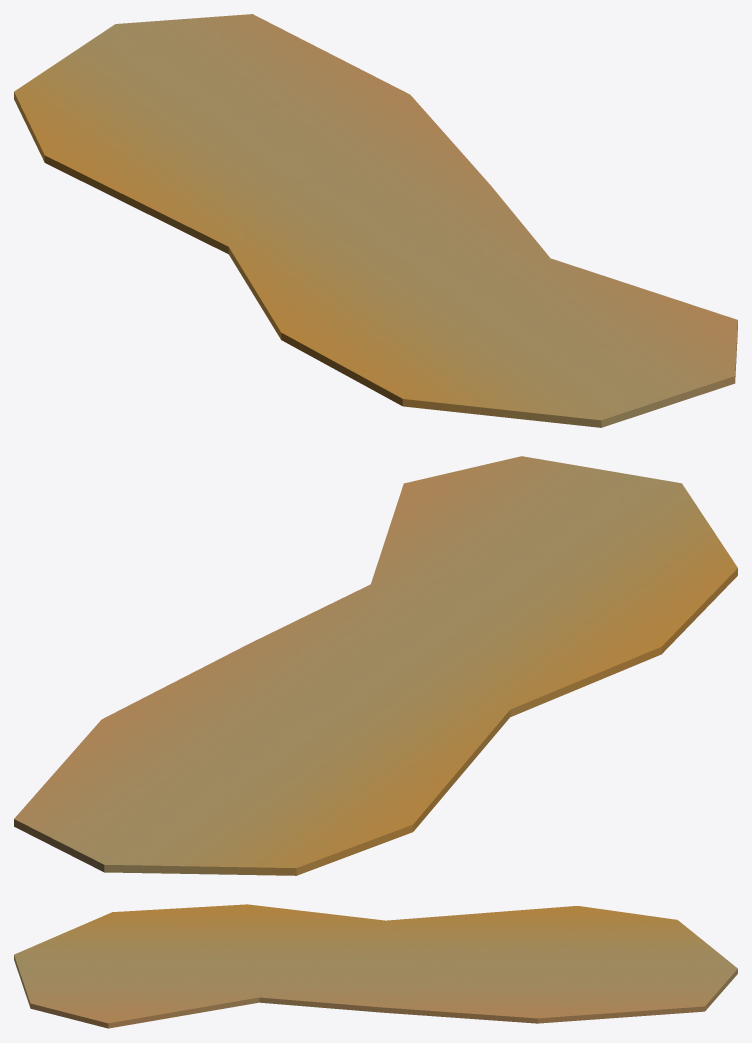
The model's file is Canyon_Ground_001.FBX.
The picture shows the model from 3 angles, top to bottom: view 1: azimuth 30°, elevation 25°; view 2: azimuth 150°, elevation 25°; view 3: azimuth 270°, elevation 25°; orthographic projection. The views are drawn at different scales.
Visible parts, largest first — view 1: Canyon_Ground_001; view 2: Canyon_Ground_001; view 3: Canyon_Ground_001.
Boxes of the visible parts, <box> form: Canyon_Ground_001: <box>14,14,737,427</box>; Canyon_Ground_001: <box>14,456,737,875</box>; Canyon_Ground_001: <box>14,904,737,1028</box>.
Size of the model in its own units: 987 by 20.07 by 2536.
1 material, 1 textured.
